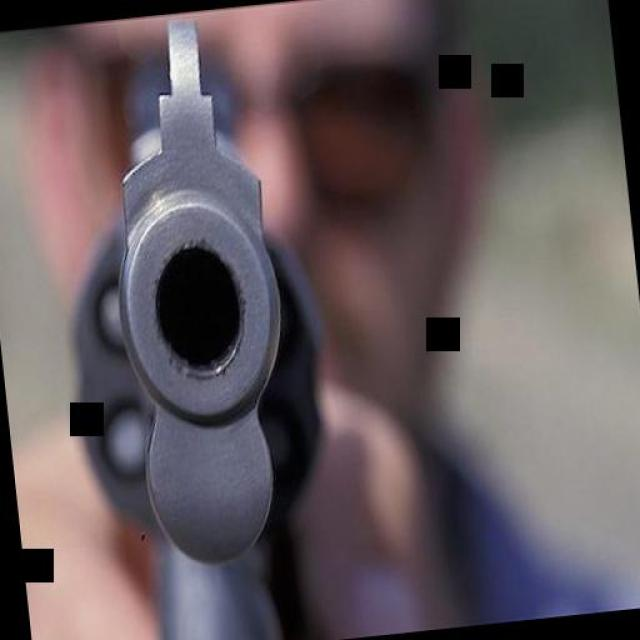gun: (29, 5, 345, 640)
